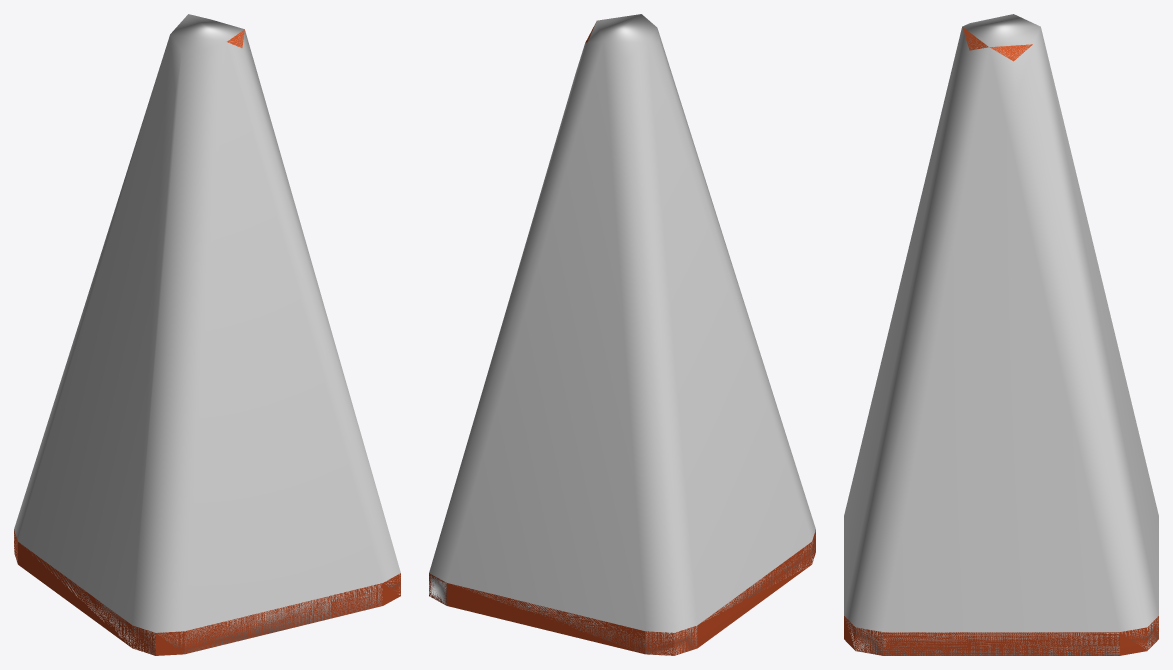
The model's file is SM_TrafficCone.glb.
The picture shows the model from 3 angles, left to right: view 1: azimuth 30°, elevation 25°; view 2: azimuth 150°, elevation 25°; view 3: azimuth 270°, elevation 25°; orthographic projection. The views are drawn at different scales.
Visible parts, largest first — view 1: SM_TrafficCone_col, SM_TrafficCone_Mesh; view 2: SM_TrafficCone_col, SM_TrafficCone_Mesh; view 3: SM_TrafficCone_col, SM_TrafficCone_Mesh.
Part boxes in pixels (x1,y1,x2,y2): SM_TrafficCone_col: [14, 14, 400, 654]; SM_TrafficCone_Mesh: [14, 29, 400, 655]; SM_TrafficCone_col: [429, 14, 815, 655]; SM_TrafficCone_Mesh: [429, 23, 815, 655]; SM_TrafficCone_col: [844, 14, 1158, 655]; SM_TrafficCone_Mesh: [844, 27, 1158, 655].
Bounding box in the file's own units: 0.36 × 0.71 × 0.36.
2 materials, 2 textured.
